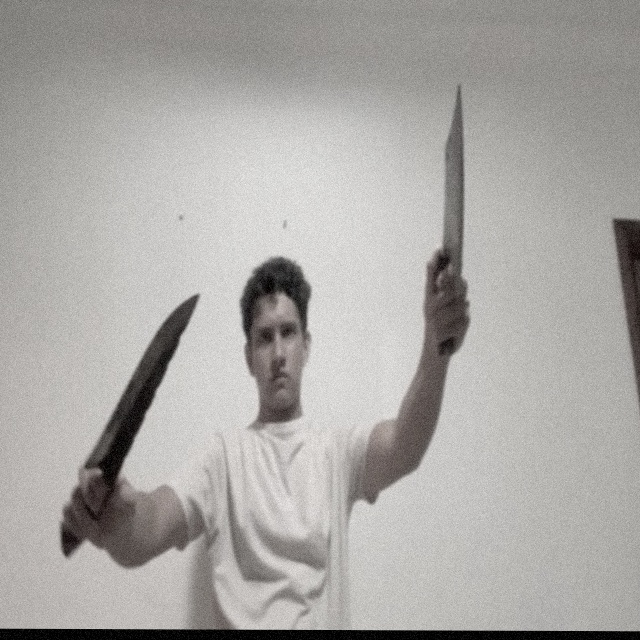Sharp-Object: (86, 290, 200, 476), (441, 83, 465, 282)
